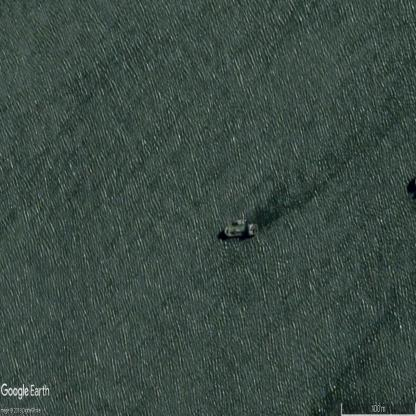ship: (224, 223, 257, 238)
